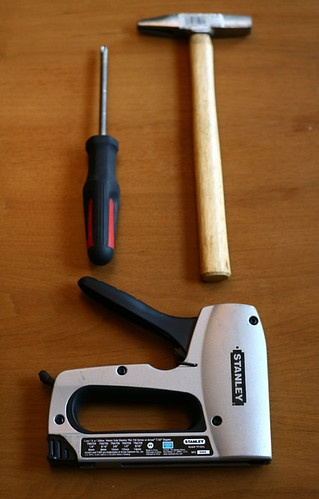hammer: (136, 9, 254, 281)
